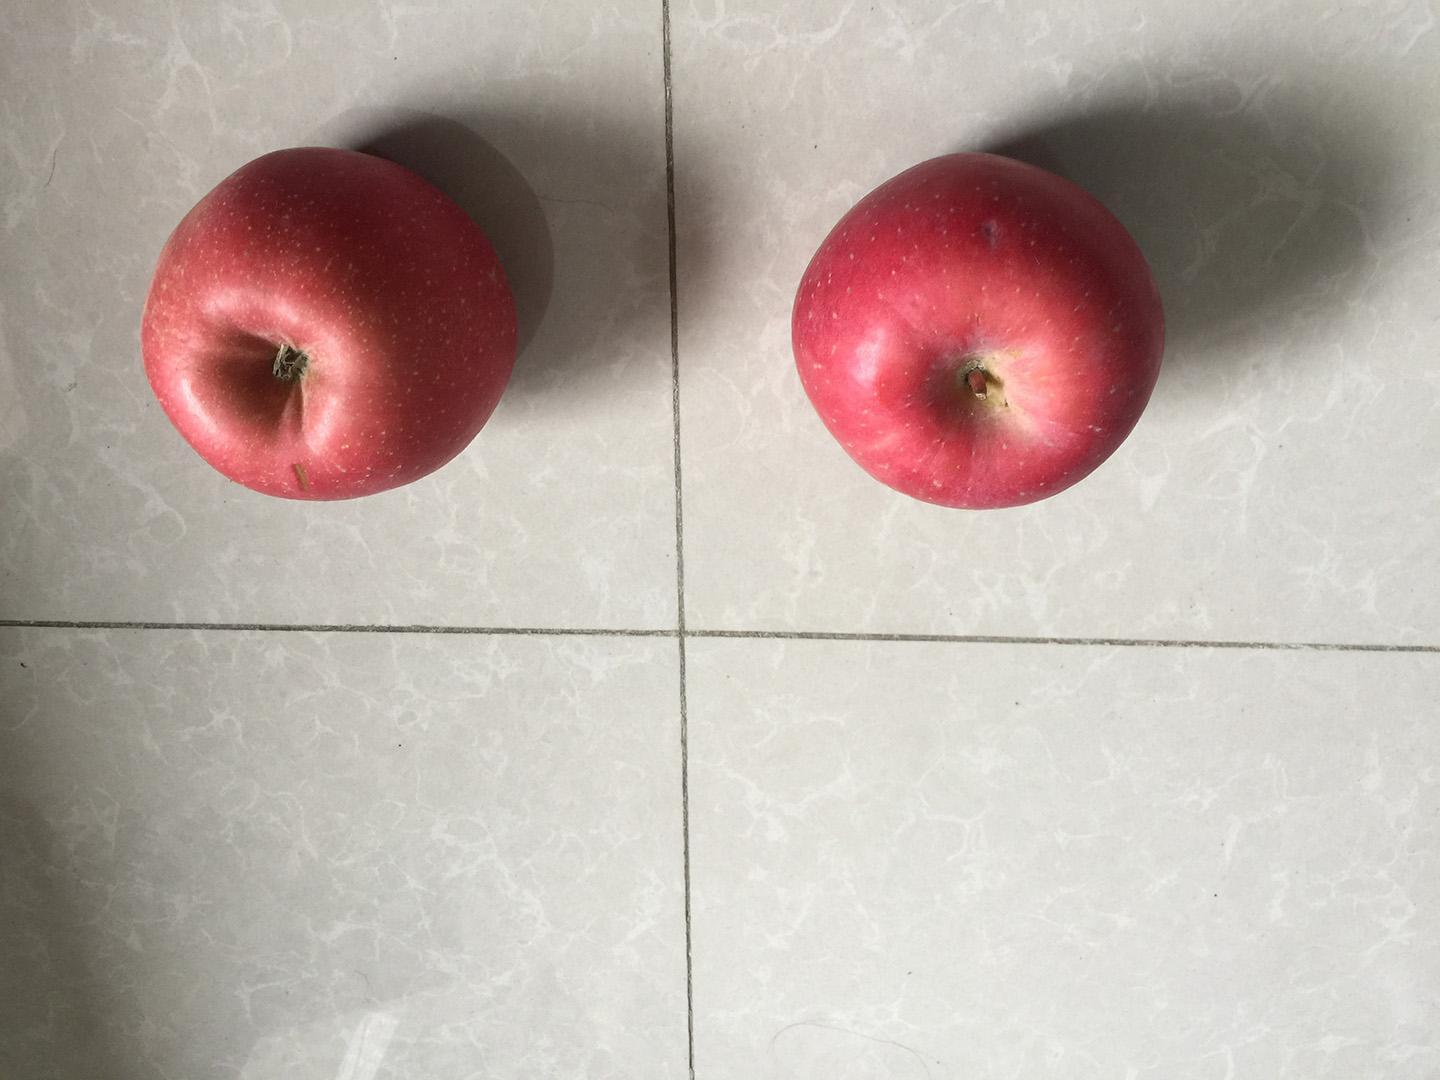apple: (776, 141, 1174, 515), (135, 142, 522, 508)
